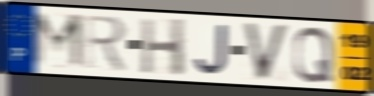H: (140, 17, 187, 78)
J: (192, 22, 230, 77)
M: (30, 10, 87, 73)
Q: (292, 25, 335, 84)
R: (82, 12, 130, 74)
V: (241, 21, 292, 83)
